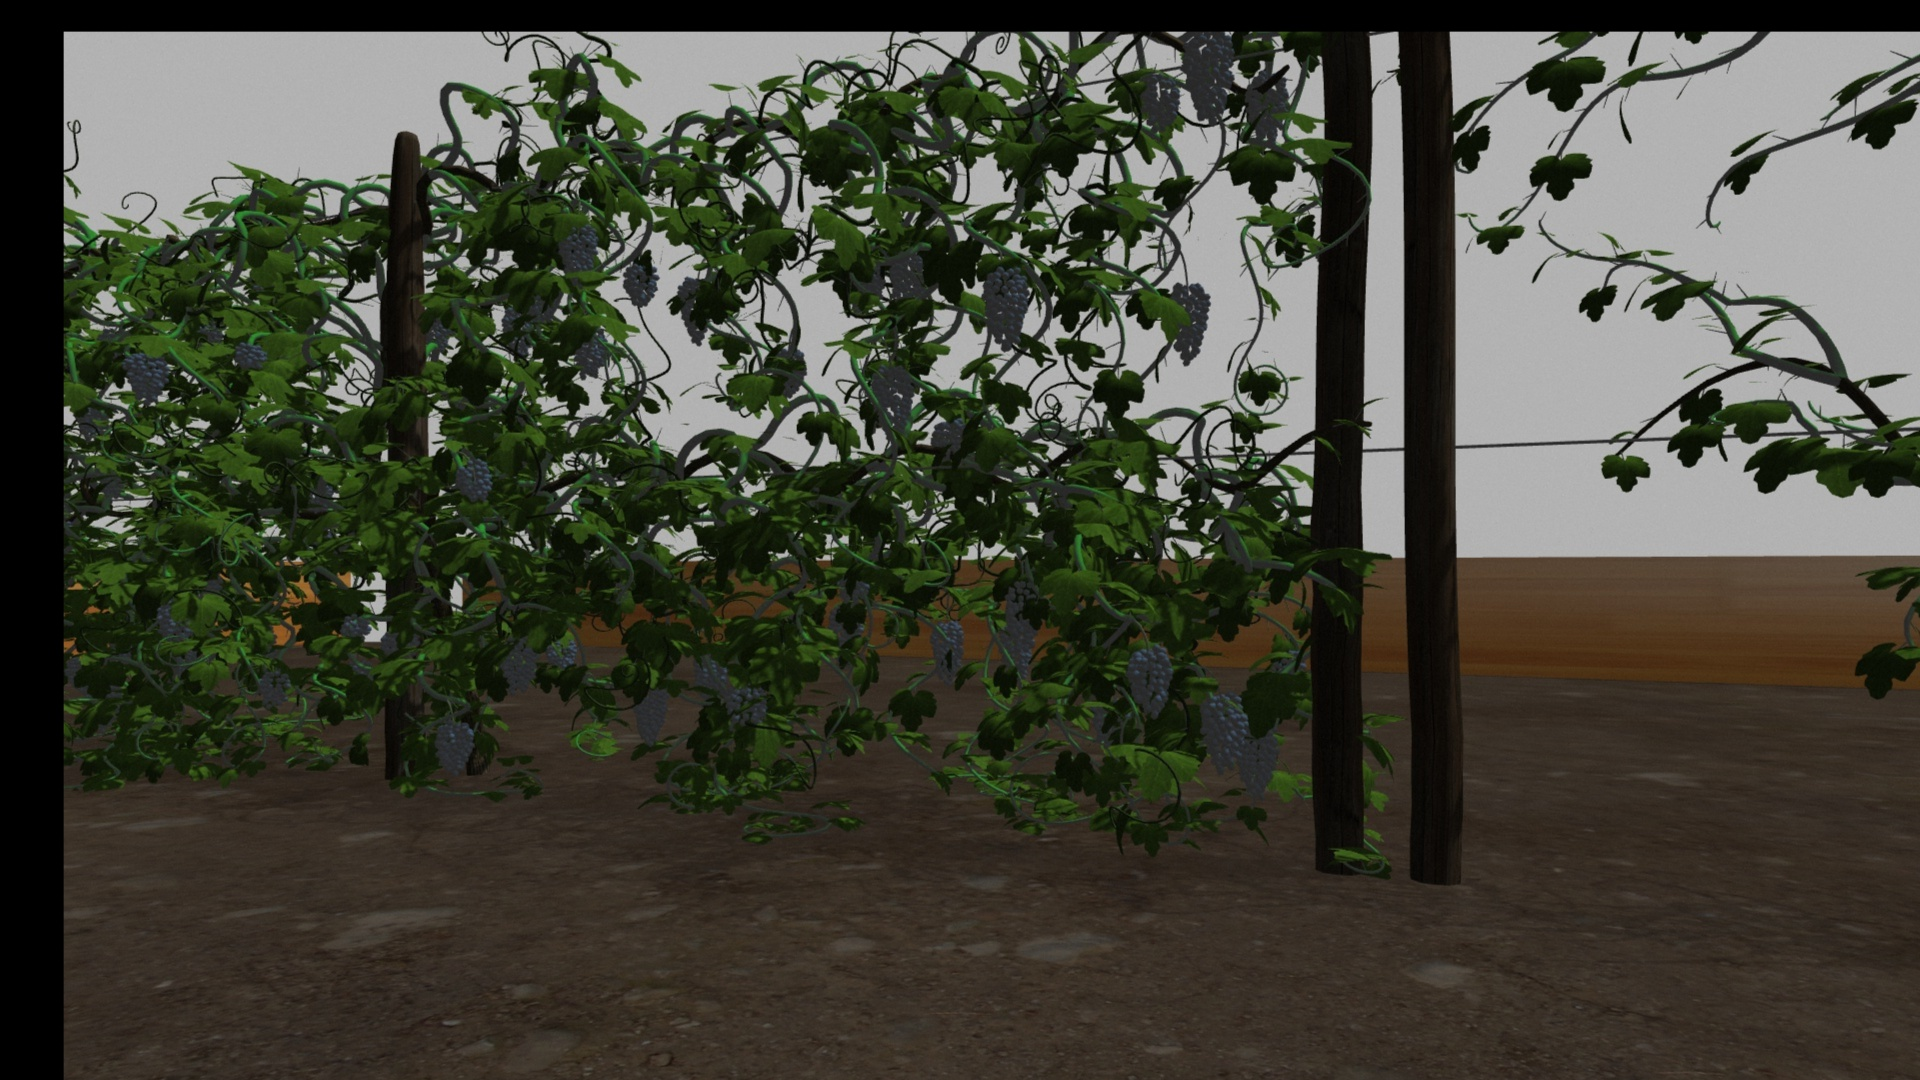grape: (1182, 34, 1234, 124), (982, 265, 1030, 351), (1124, 642, 1174, 723), (1199, 695, 1247, 773), (1166, 280, 1211, 364), (1244, 71, 1288, 145), (1236, 729, 1280, 802), (870, 363, 914, 436), (1135, 73, 1180, 135), (1004, 579, 1040, 650), (633, 679, 670, 746), (555, 220, 600, 276), (675, 276, 709, 347), (123, 349, 169, 402), (434, 717, 475, 777), (930, 620, 964, 683), (498, 640, 537, 692), (454, 454, 493, 504), (618, 262, 659, 307), (574, 324, 607, 380), (887, 252, 922, 305), (725, 684, 765, 725), (997, 632, 1033, 676), (688, 651, 728, 691), (256, 667, 291, 709), (233, 340, 265, 372), (545, 640, 579, 669), (339, 612, 371, 636)
